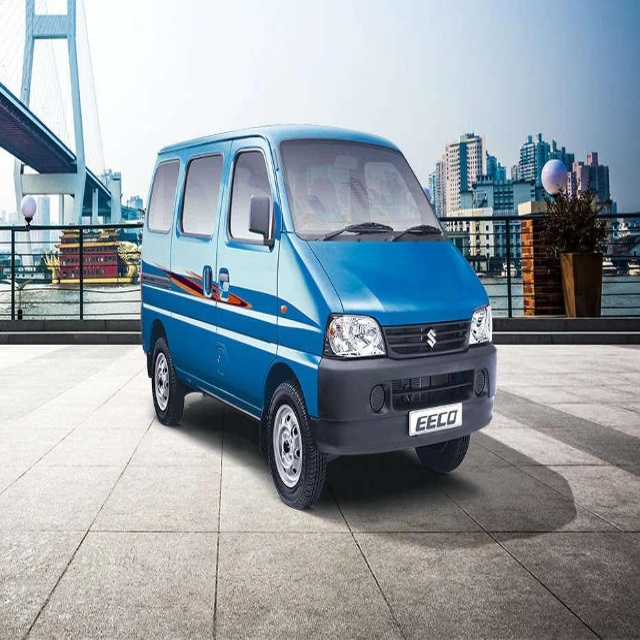Van: (140, 121, 497, 510)
